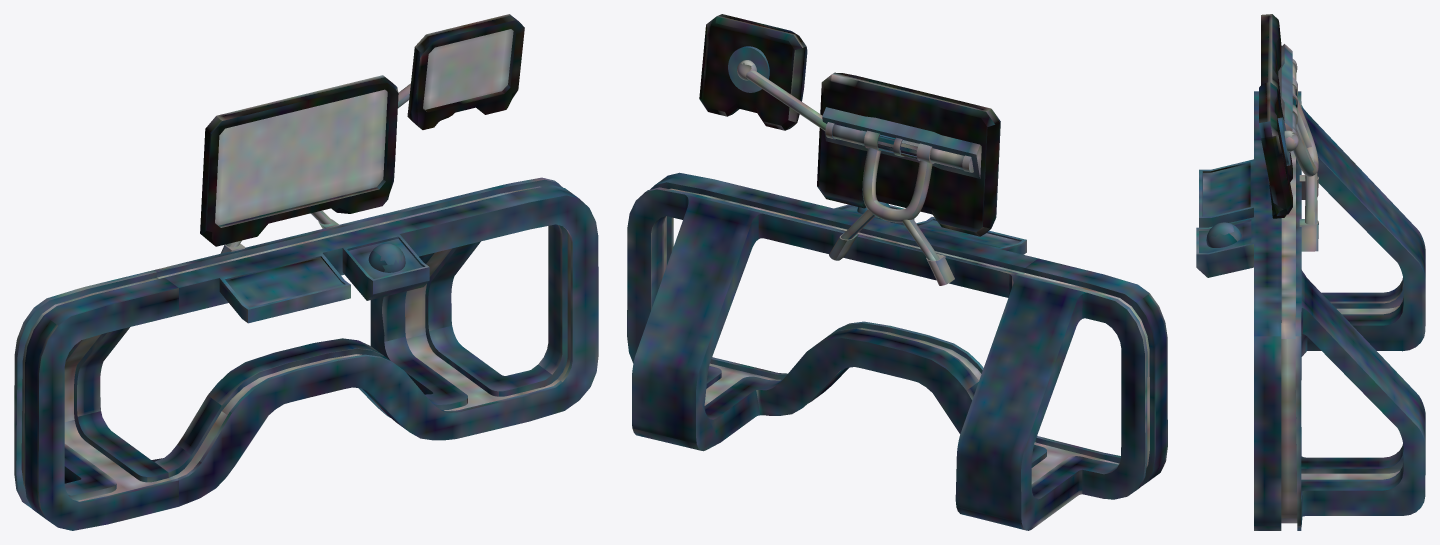
File: table2.fbx
3 views of the same model, side by side, from view 1: azimuth 30°, elevation 25°; view 2: azimuth 150°, elevation 25°; view 3: azimuth 270°, elevation 25° (orthographic). The views are drawn at different scales.
Parts seen in each view (by area): view 1: Cube.011; view 2: Cube.011; view 3: Cube.011.
Part boxes in pixels (<box>): Cube.011: <box>14,14,598,530</box>; Cube.011: <box>627,14,1167,530</box>; Cube.011: <box>1196,14,1425,530</box>.
Size of the model in its own units: 538 by 371 by 198.
1 material, 1 textured.
